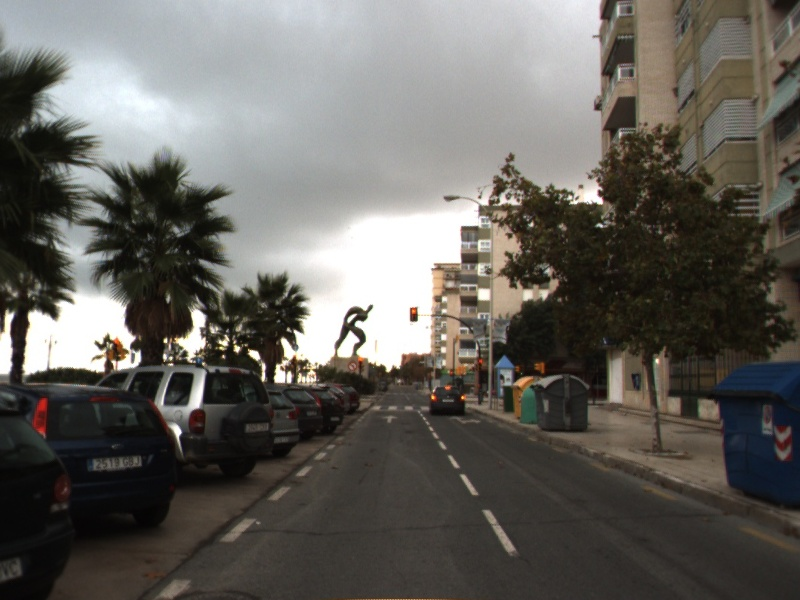STRAIGHT: (381, 413, 400, 425)
STRAIGHT_RIGHT: (447, 414, 483, 426)
